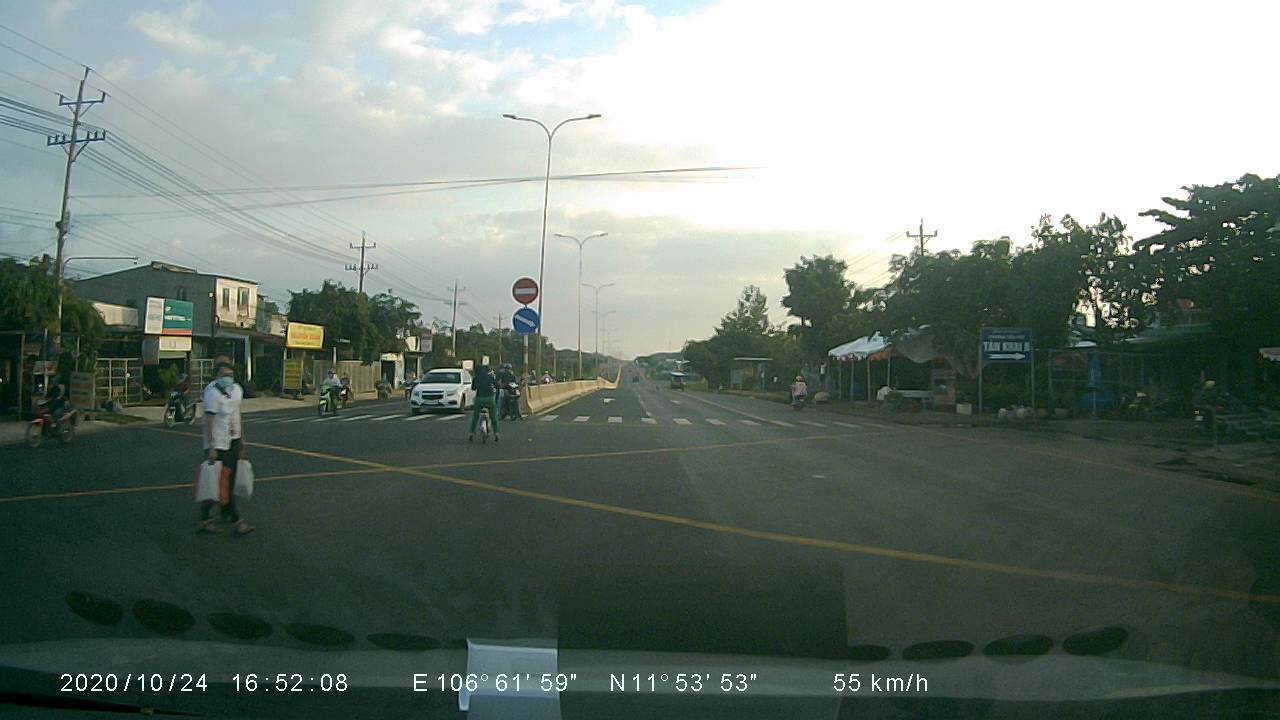Cam di nguoc chieu: (510, 273, 538, 304)
Huong di phai re phai: (509, 304, 544, 336)
